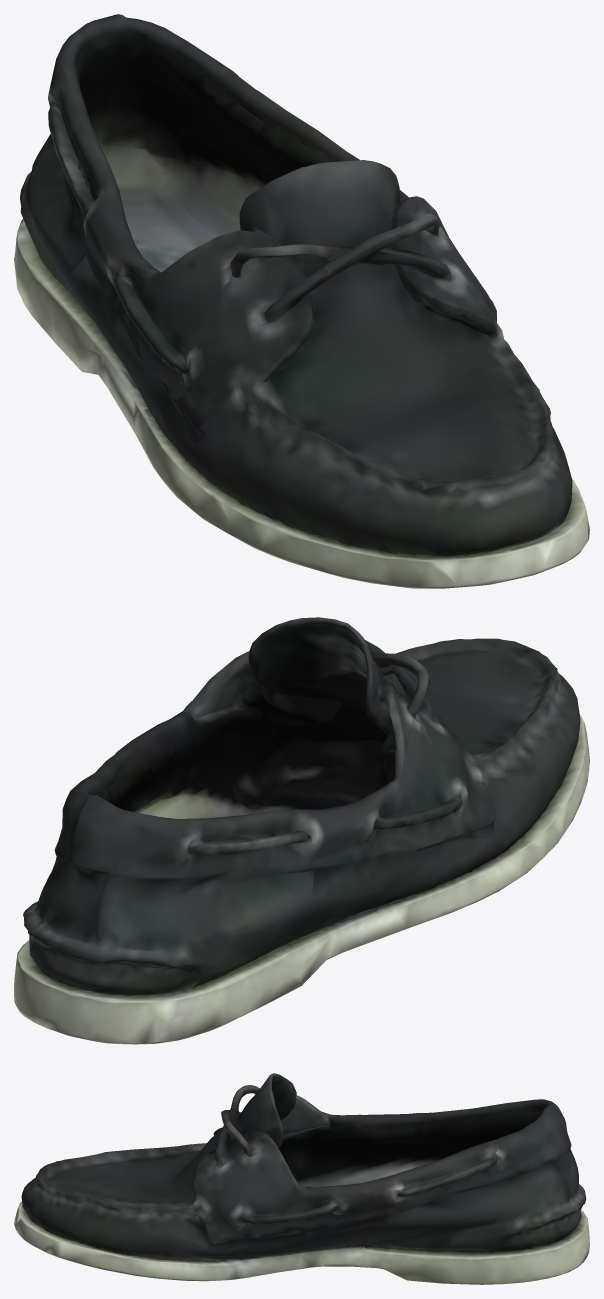
File: Mens_Mako_Canoe_Moc_2Eye_Boat_Shoe_in_Coffee_K9e8FoV73uZ-high.glb
The picture shows the model from 3 angles, top to bottom: view 1: azimuth 30°, elevation 25°; view 2: azimuth 150°, elevation 25°; view 3: azimuth 270°, elevation 25°; orthographic projection. The views are drawn at different scales.
Visible parts, largest first — view 1: Mens_Mako_Canoe_Moc_2Eye_Boat_Shoe_in_Coffee_K9e8FoV73uZ; view 2: Mens_Mako_Canoe_Moc_2Eye_Boat_Shoe_in_Coffee_K9e8FoV73uZ; view 3: Mens_Mako_Canoe_Moc_2Eye_Boat_Shoe_in_Coffee_K9e8FoV73uZ.
Boxes of the visible parts, box(x1,y1,x2,y2) form: Mens_Mako_Canoe_Moc_2Eye_Boat_Shoe_in_Coffee_K9e8FoV73uZ: box(14, 14, 589, 588); Mens_Mako_Canoe_Moc_2Eye_Boat_Shoe_in_Coffee_K9e8FoV73uZ: box(14, 617, 589, 1044); Mens_Mako_Canoe_Moc_2Eye_Boat_Shoe_in_Coffee_K9e8FoV73uZ: box(14, 1073, 589, 1284).
Size of the model in its own units: 0.1114 by 0.0949 by 0.2872.
1 material, 1 textured.
